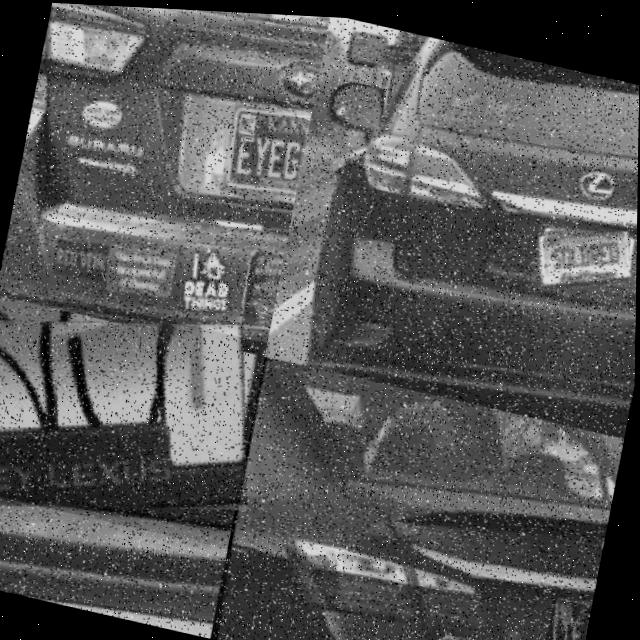LicensePlate: (0, 281, 271, 548), (223, 107, 308, 196), (537, 225, 631, 284), (552, 594, 592, 640)
